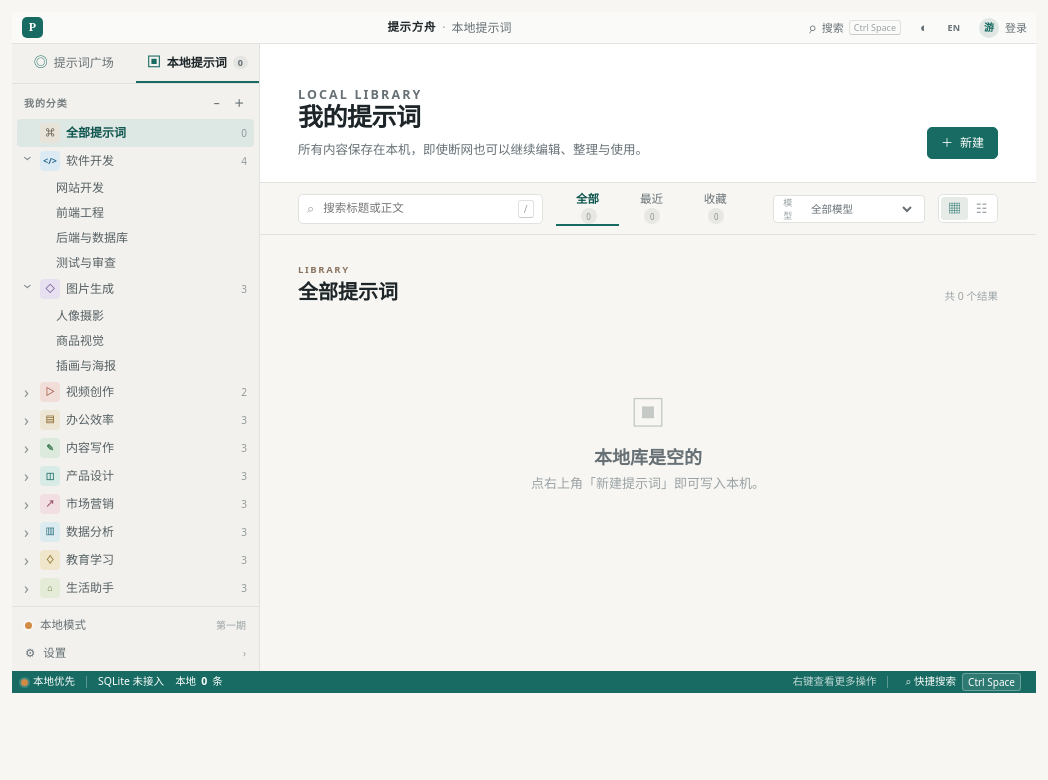
Test: WorkbenchShell › refuses a third-level category from a child
Click the button with class "child" showing "前端工程".
click(150, 212)  # box [47,200,254,225]
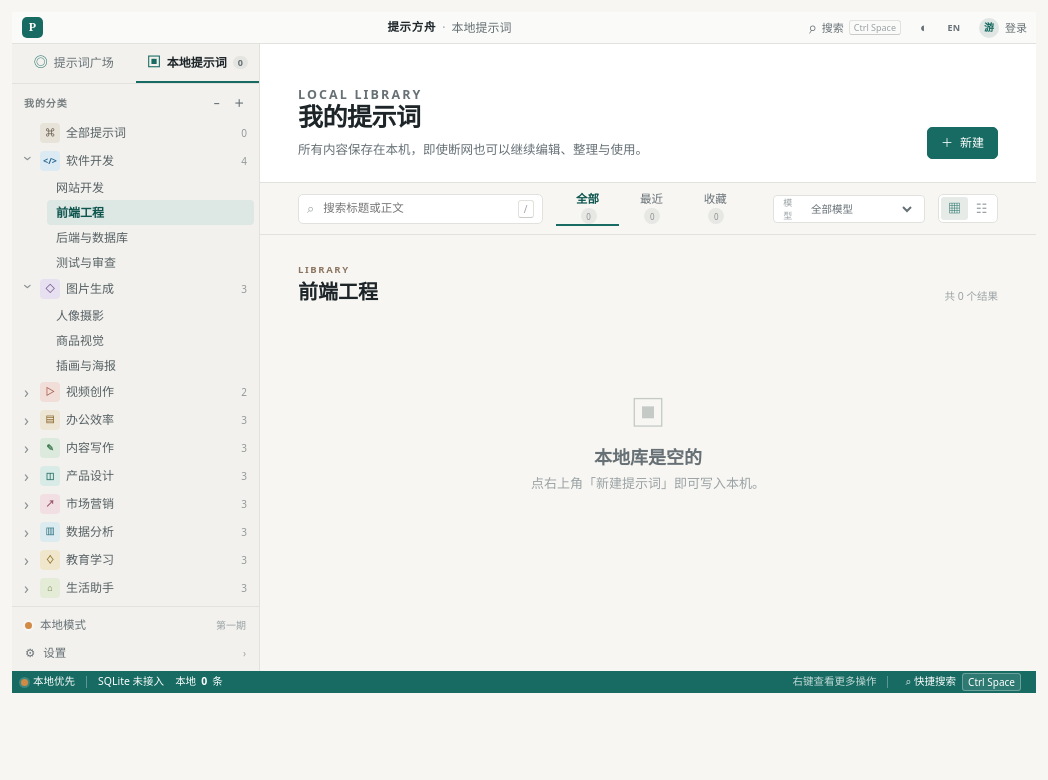
Click the button with test id "add-category".
click(239, 104)  # box [228,92,250,114]
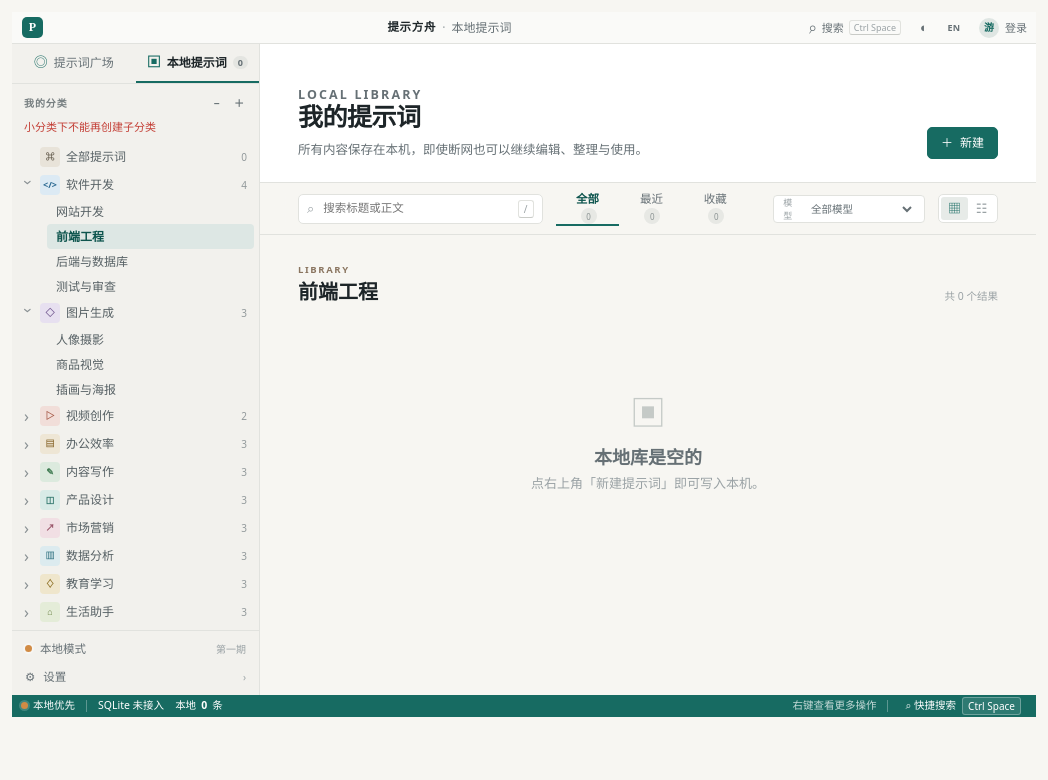
Result: the text with test id "category-error" reads "小分类下不能再创建子分类" at [24,119,156,134]
